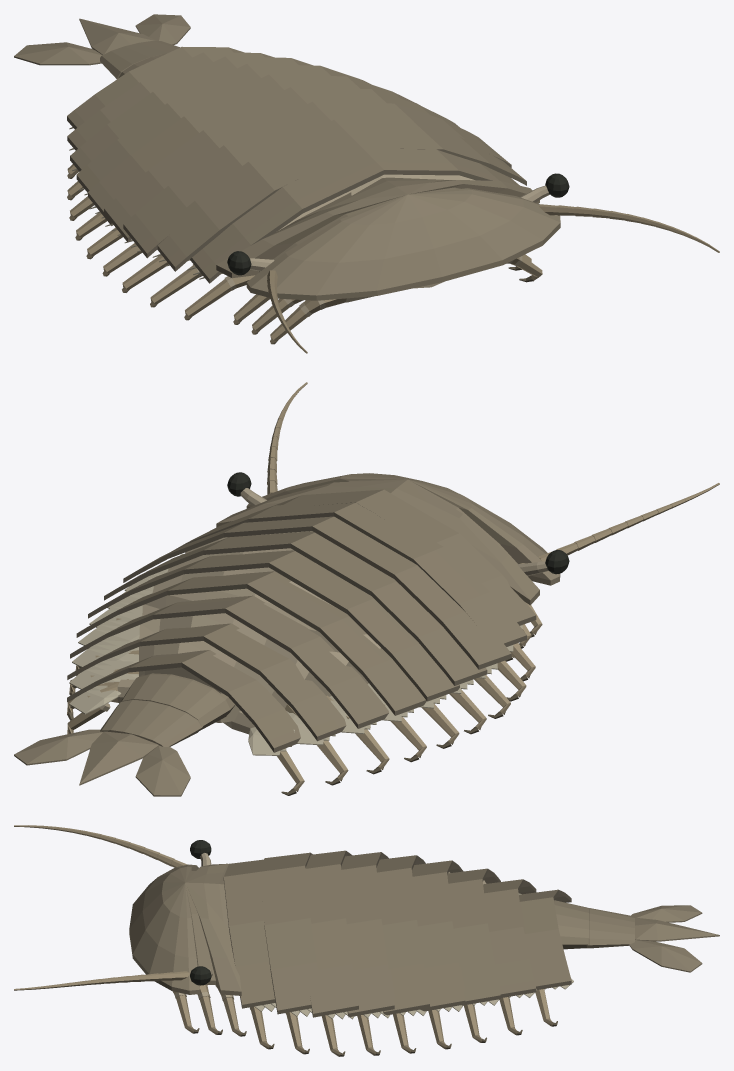
3 renders of one model, top to bottom at view 1: azimuth 30°, elevation 25°; view 2: azimuth 150°, elevation 25°; view 3: azimuth 270°, elevation 25°, orthographic. The views are drawn at different scales.
Visible parts, largest first — view 1: surface-shell, surface-limb, surface-shell_rim, surface-ventral, surface-eye; view 2: surface-shell, surface-shell_rim, surface-ventral, surface-limb, surface-gill, surface-eye, surface-claw; view 3: surface-shell, surface-limb, surface-shell_rim, surface-gill, surface-eye.
Part boxes in pixels (x1,y1,x2,y2): surface-shell: (14,14,560,300); surface-limb: (67,164,719,353); surface-shell_rim: (67,116,526,283); surface-ventral: (193,174,549,316); surface-eye: (227,173,569,275); surface-shell: (14,473,560,796); surface-shell_rim: (67,502,536,752); surface-ventral: (100,488,548,734); surface-limb: (67,382,719,791); surface-gill: (69,554,522,755); surface-eye: (227,472,569,574); surface-claw: (67,631,534,795); surface-shell: (129,850,719,1013); surface-limb: (14,825,553,1056); surface-shell_rim: (223,851,571,1017); surface-gill: (254,893,573,1019); surface-eye: (190,840,211,985).
Size of the model in its own units: 0.0659 by 0.0223 by 0.1195.
